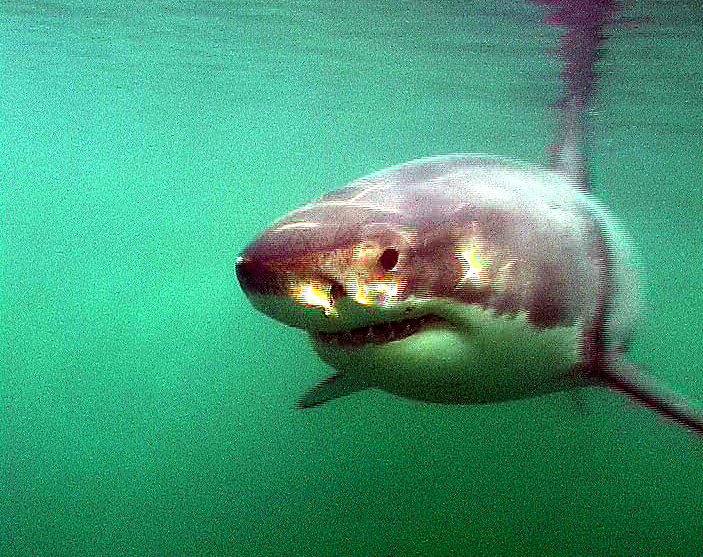Carcharodon_carcharias: (203, 114, 703, 439)
